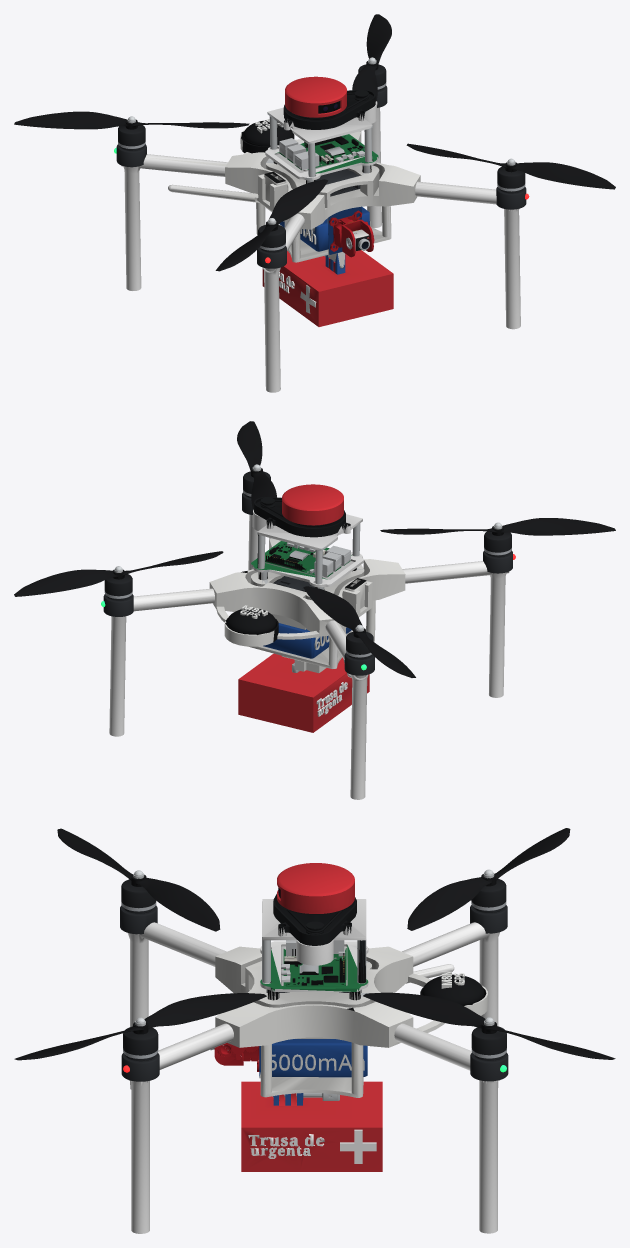
The model's file is drone.glb.
3 renders of one model, top to bottom at view 1: azimuth 30°, elevation 25°; view 2: azimuth 150°, elevation 25°; view 3: azimuth 270°, elevation 25°, orthographic. The views are drawn at different scales.
Parts seen in each view (by area): view 1: body, kit, lidar, prop_2, prop_4, prop_3, prop_1, motor_4, motor_2, motor_3; view 2: body, kit, lidar, prop_3, prop_1, prop_2, prop_4, motor_1, motor_3, motor_2; view 3: body, kit, lidar, prop_4, prop_1, prop_2, prop_3, motor_4, motor_1, motor_3, motor_2.
Boxes of the visible parts, x1=… form: body: x1=121, y1=89, x2=520, y2=392; kit: x1=262, y1=250, x2=393, y2=326; lidar: x1=285, y1=76, x2=346, y2=117; prop_2: x1=14, y1=111, x2=249, y2=129; prop_4: x1=406, y1=143, x2=615, y2=189; prop_3: x1=215, y1=179, x2=328, y2=271; prop_1: x1=352, y1=14, x2=391, y2=101; motor_4: x1=496, y1=166, x2=526, y2=209; motor_2: x1=116, y1=125, x2=146, y2=167; motor_3: x1=257, y1=225, x2=286, y2=268; body: x1=109, y1=497, x2=509, y2=799; kit: x1=238, y1=653, x2=369, y2=732; lidar: x1=282, y1=484, x2=343, y2=525; prop_3: x1=380, y1=518, x2=615, y2=535; prop_1: x1=14, y1=551, x2=223, y2=596; prop_2: x1=303, y1=586, x2=415, y2=677; prop_4: x1=237, y1=421, x2=276, y2=509; motor_1: x1=103, y1=574, x2=133, y2=616; motor_3: x1=483, y1=531, x2=512, y2=573; motor_2: x1=344, y1=631, x2=374, y2=675; body: x1=127, y1=894, x2=499, y2=1233; kit: x1=241, y1=1081, x2=382, y2=1171; lidar: x1=277, y1=863, x2=354, y2=913; prop_4: x1=14, y1=993, x2=266, y2=1060; prop_1: x1=363, y1=992, x2=615, y2=1059; prop_2: x1=407, y1=828, x2=570, y2=930; prop_3: x1=57, y1=828, x2=220, y2=931; motor_4: x1=121, y1=1026, x2=159, y2=1081; motor_1: x1=470, y1=1026, x2=508, y2=1081; motor_3: x1=120, y1=879, x2=157, y2=934; motor_2: x1=470, y1=878, x2=507, y2=933.
Size of the model in its own units: 0.4777 by 0.2636 by 0.5149.
